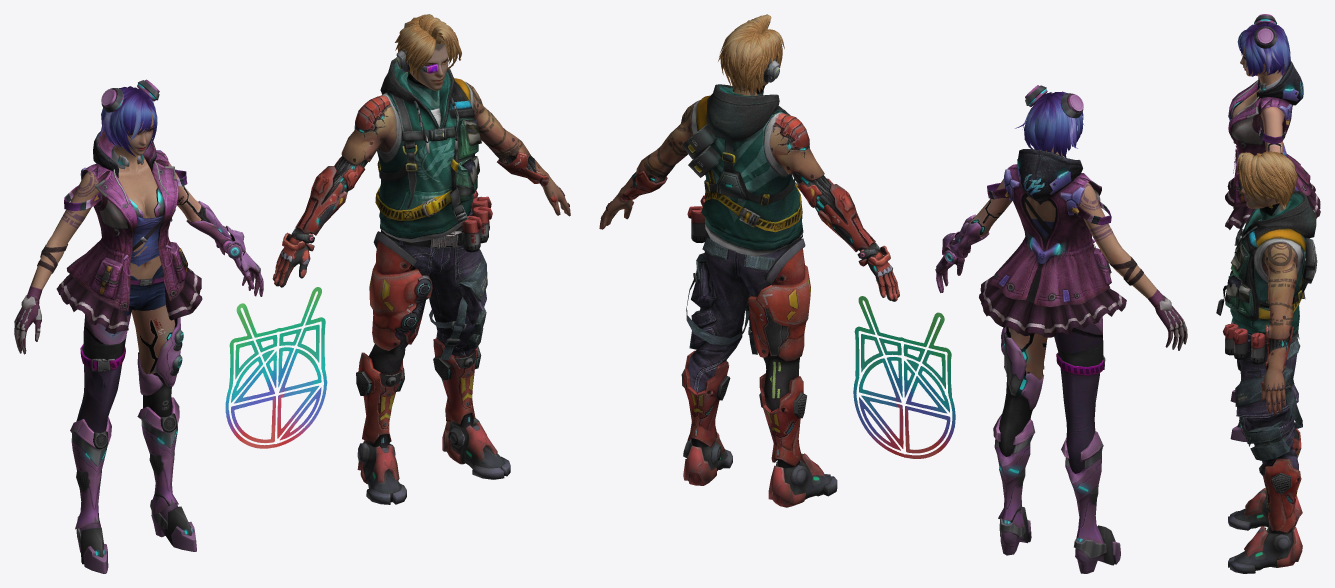
Rendered from ColorDuo.glb.
3 renders of one model, left to right at view 1: azimuth 30°, elevation 25°; view 2: azimuth 150°, elevation 25°; view 3: azimuth 270°, elevation 25°, orthographic. The views are drawn at different scales.
Visible parts, largest first — view 1: male_lobby_top_cos_biobody, female_lobby_top_cos_biobody, male_lobby_bottom_cos_biobody, female_lobby_bottom_cos_biobody_female_bottom_cos_biobody_d_, Plane, male_lobby_shoe_cos_biobody, female_lobby_hat_cos_biobody, male_lobby_hair_cos_biobody, female_lobby_shoe_cos_biobody, male_lobby_sc_foodieboy_head_01; view 2: male_lobby_top_cos_biobody, female_lobby_top_cos_biobody, male_lobby_bottom_cos_biobody, female_lobby_bottom_cos_biobody_female_bottom_cos_biobody_d_, Plane, male_lobby_shoe_cos_biobody, male_lobby_hair_cos_biobody, female_lobby_hat_cos_biobody, female_lobby_shoe_cos_biobody; view 3: male_lobby_top_cos_biobody, male_lobby_bottom_cos_biobody, female_lobby_top_cos_biobody, male_lobby_shoe_cos_biobody, male_lobby_hair_cos_biobody, female_lobby_hat_cos_biobody, male_lobby_sc_foodieboy_head_01, female_lobby_shoe_cos_biobody, Female_Lobby_Top_Cos_Fcninja.001.
Part boxes in pixels (left/top/right/bottom): male_lobby_top_cos_biobody: left=272, top=58, right=570, bottom=287; female_lobby_top_cos_biobody: left=14, top=129, right=263, bottom=354; male_lobby_bottom_cos_biobody: left=356, top=190, right=492, bottom=447; female_lobby_bottom_cos_biobody_female_bottom_cos_biobody_d_: left=70, top=265, right=183, bottom=529; Plane: left=225, top=287, right=327, bottom=448; male_lobby_shoe_cos_biobody: left=357, top=418, right=510, bottom=504; female_lobby_hat_cos_biobody: left=99, top=79, right=159, bottom=156; male_lobby_hair_cos_biobody: left=395, top=14, right=461, bottom=80; female_lobby_shoe_cos_biobody: left=76, top=499, right=196, bottom=573; male_lobby_sc_foodieboy_head_01: left=410, top=34, right=448, bottom=90; male_lobby_top_cos_biobody: left=599, top=83, right=899, bottom=301; female_lobby_top_cos_biobody: left=935, top=149, right=1187, bottom=350; male_lobby_bottom_cos_biobody: left=681, top=195, right=810, bottom=468; female_lobby_bottom_cos_biobody_female_bottom_cos_biobody_d_: left=993, top=316, right=1105, bottom=560; Plane: left=853, top=296, right=955, bottom=458; male_lobby_shoe_cos_biobody: left=683, top=432, right=837, bottom=507; male_lobby_hair_cos_biobody: left=718, top=14, right=784, bottom=94; female_lobby_hat_cos_biobody: left=1015, top=85, right=1083, bottom=157; female_lobby_shoe_cos_biobody: left=999, top=507, right=1120, bottom=573; male_lobby_top_cos_biobody: left=1216, top=190, right=1317, bottom=414; male_lobby_bottom_cos_biobody: left=1223, top=323, right=1302, bottom=533; female_lobby_top_cos_biobody: left=1225, top=60, right=1320, bottom=229; male_lobby_shoe_cos_biobody: left=1228, top=488, right=1302, bottom=573; male_lobby_hair_cos_biobody: left=1237, top=151, right=1297, bottom=206; female_lobby_hat_cos_biobody: left=1237, top=14, right=1290, bottom=76; male_lobby_sc_foodieboy_head_01: left=1241, top=187, right=1279, bottom=208; female_lobby_shoe_cos_biobody: left=1230, top=381, right=1246, bottom=441; Female_Lobby_Top_Cos_Fcninja.001: left=1240, top=36, right=1278, bottom=76.
Size of the model in its own units: 1.27 by 0.9913 by 0.2352.
Materials: 14 (14 with a texture image).
